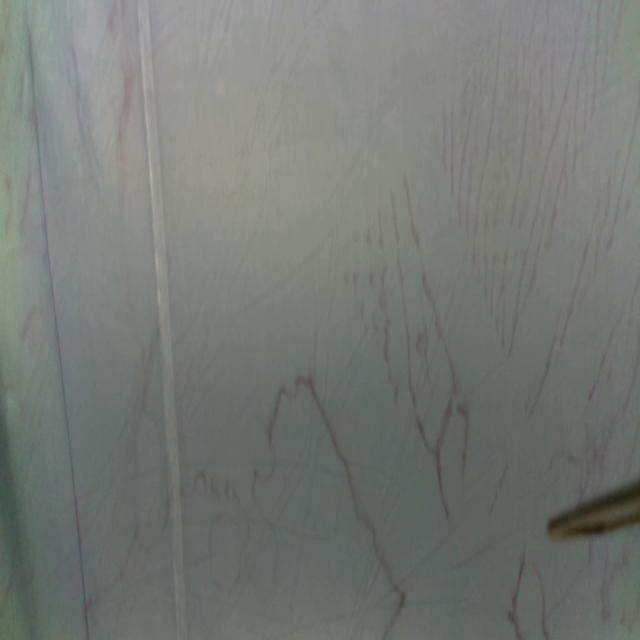crease: (27, 1, 90, 640), (136, 0, 188, 640)
